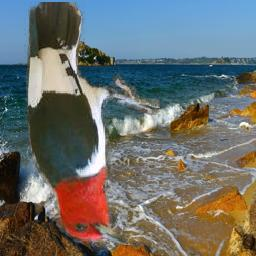Woodpecker: (24, 3, 160, 246)
